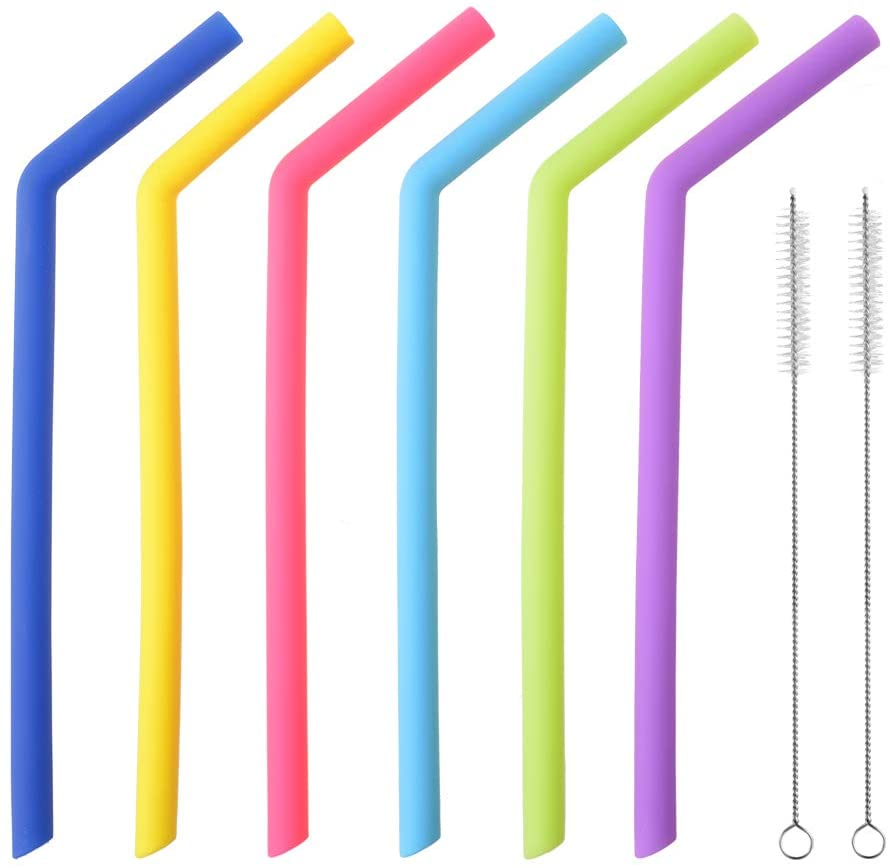Drinking Straw: (8, 10, 250, 860)
